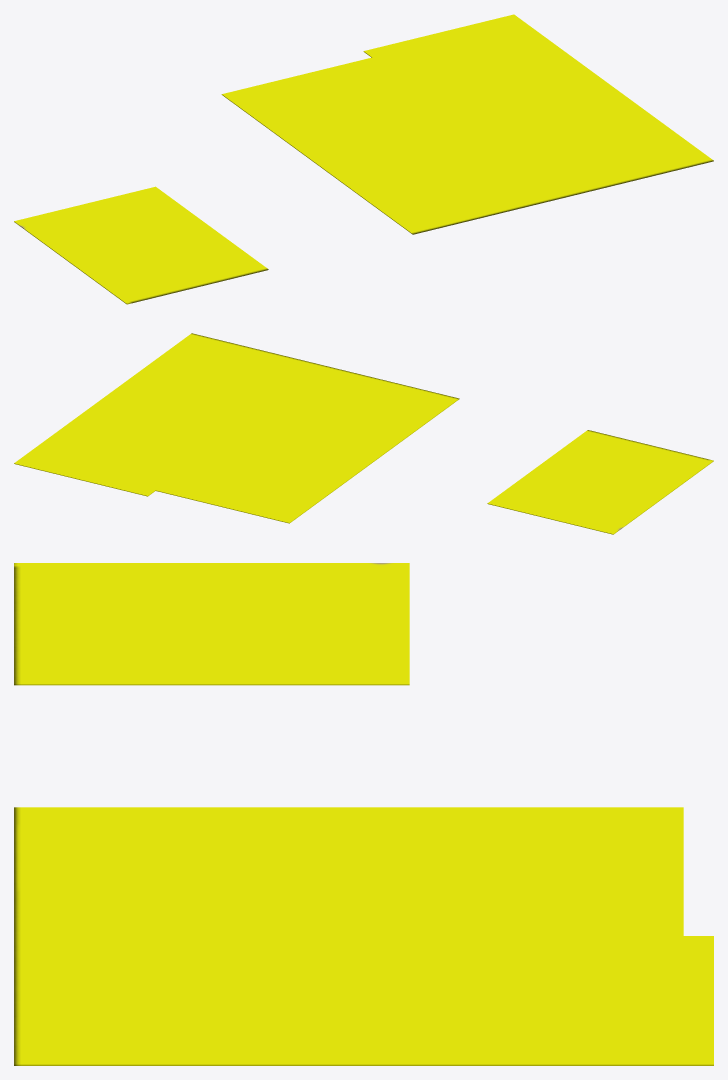
The model's file is Level 15.fbx.
3 views of the same model, one above another, from view 1: azimuth 30°, elevation 25°; view 2: azimuth 150°, elevation 25°; view 3: azimuth 270°, elevation 25° (orthographic). The views are drawn at different scales.
Parts seen in each view (by area): view 1: stair_03, stair_02, stair_01; view 2: stair_03, stair_02, stair_01; view 3: stair_03, stair_02, stair_01.
Part boxes in pixels (x1=…): stair_03: x1=363, y1=14, x2=713, y2=197; stair_02: x1=221, y1=57, x2=563, y2=234; stair_01: x1=14, y1=186, x2=268, y2=304; stair_03: x1=14, y1=333, x2=324, y2=496; stair_02: x1=155, y1=366, x2=459, y2=523; stair_01: x1=487, y1=430, x2=713, y2=534; stair_03: x1=14, y1=936, x2=713, y2=1065; stair_02: x1=14, y1=807, x2=683, y2=935; stair_01: x1=14, y1=563, x2=409, y2=685.
Size of what is drawn, in the model's own units: 9.36 by 0.01 by 5.52.
1 material, 1 textured.
